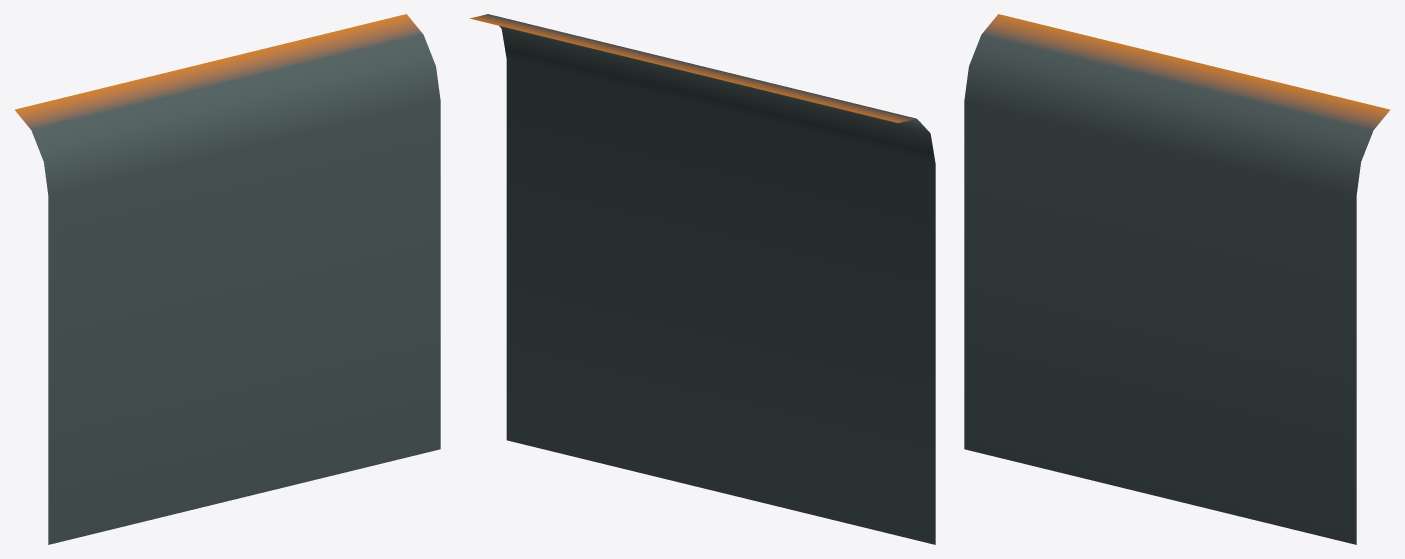
Rendered from Base_WallRoad.fbx.
The picture shows the model from 3 angles, left to right: view 1: azimuth 30°, elevation 25°; view 2: azimuth 150°, elevation 25°; view 3: azimuth 330°, elevation 25°; orthographic projection. The views are drawn at different scales.
Parts seen in each view (by area): view 1: Base_WallRoad; view 2: Base_WallRoad; view 3: Base_WallRoad.
Part boxes in pixels (left/top/right/bottom): Base_WallRoad: left=15, top=14, right=440, bottom=544; Base_WallRoad: left=470, top=14, right=935, bottom=544; Base_WallRoad: left=964, top=14, right=1389, bottom=544.
Bounding box in the file's own units: 2000 × 2000 × 300.
